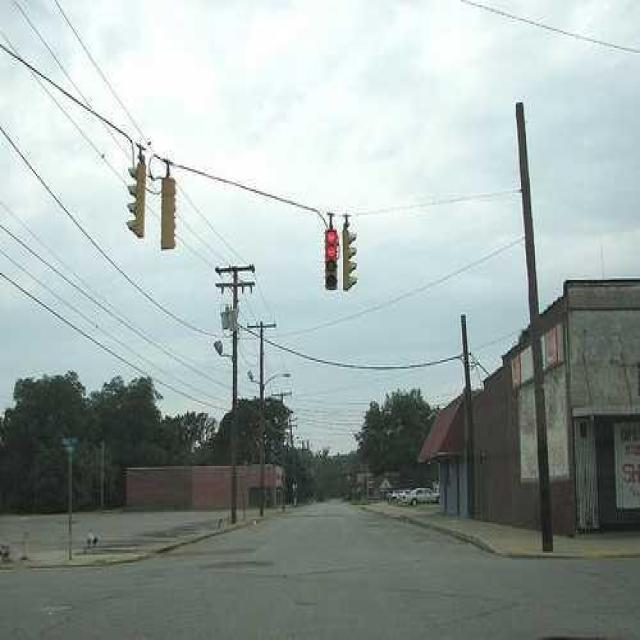Traffic Light -Red-: (322, 225, 340, 294)
